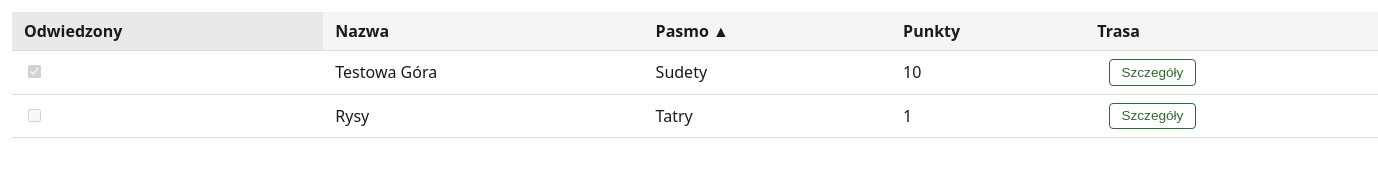
Test: PointsList › pokazuje komunikat "w przygotowaniu" dla punktu bez danych o trasie
Click the button "Szczegóły" in the row of "Testowa Góra": [1152, 72] box [1109,59,1196,86]
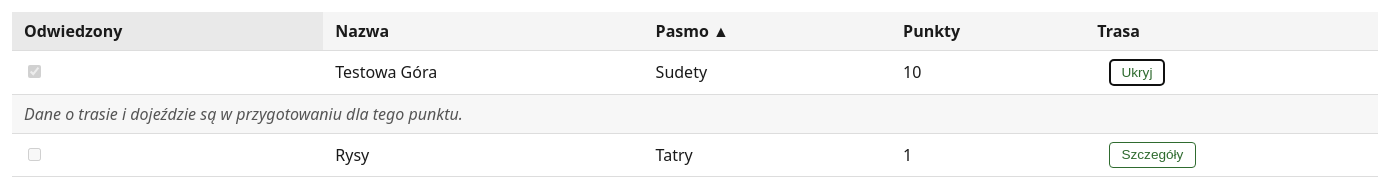
Result: the text "Dane o trasie i dojeździe są w przygotowaniu dla tego punktu." is shown at [24,103,463,125]
